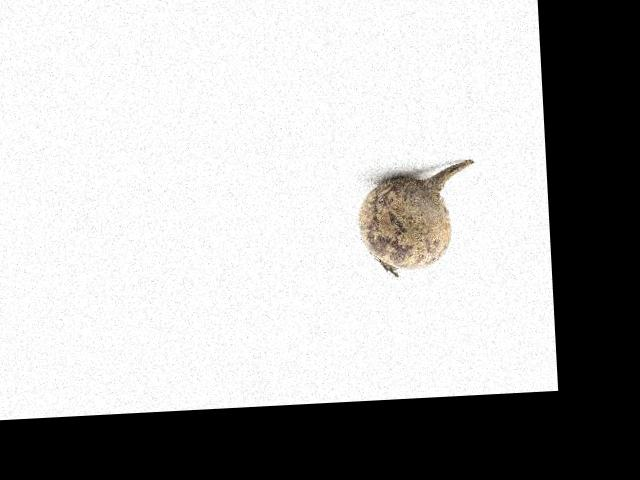beet: (354, 159, 478, 278)
